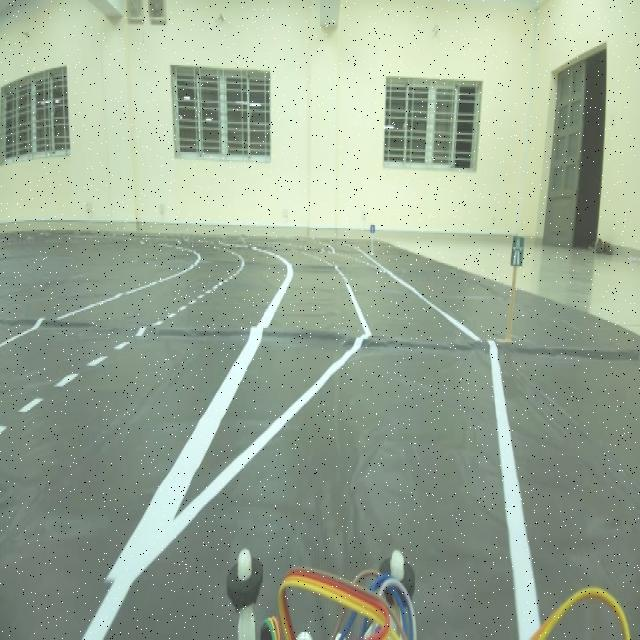highway_entry: (504, 226, 527, 271)
